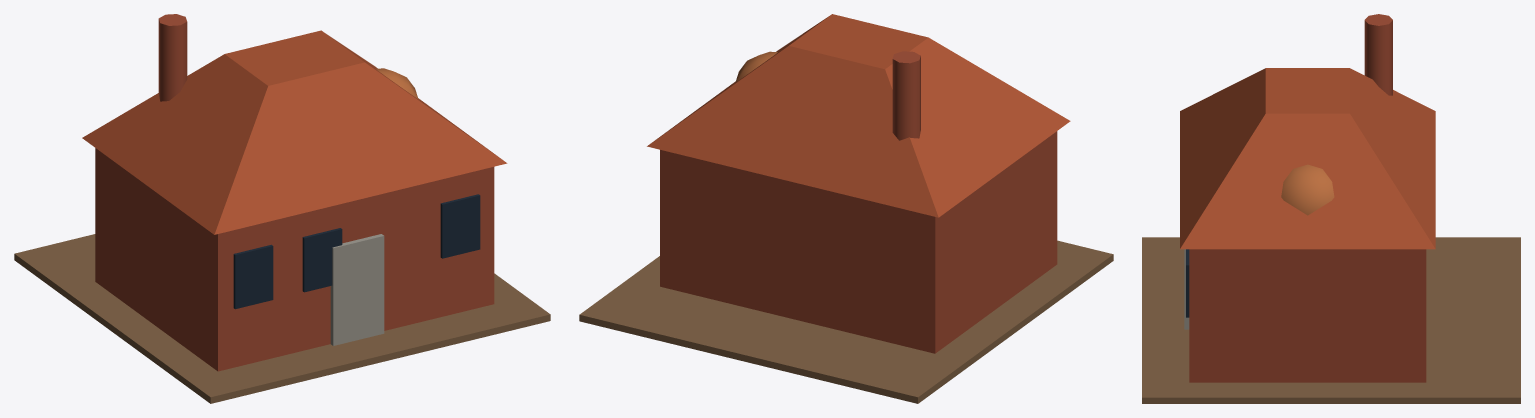
File: bld_special_laboratory_a04_lod1.glb
The picture shows the model from 3 angles, left to right: view 1: azimuth 30°, elevation 25°; view 2: azimuth 150°, elevation 25°; view 3: azimuth 270°, elevation 25°; orthographic projection. The views are drawn at different scales.
Parts seen in each view (by area): view 1: body; view 2: body; view 3: body.
Boxes of the visible parts, x1,y1,x2,y2 form: body: (14,14,550,403); body: (579,14,1113,403); body: (1142,14,1520,403).
Size of the model in its own units: 8 by 6.15 by 8.
